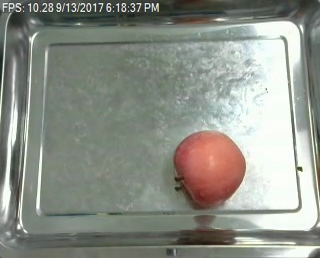Apple: (172, 130, 244, 207)
